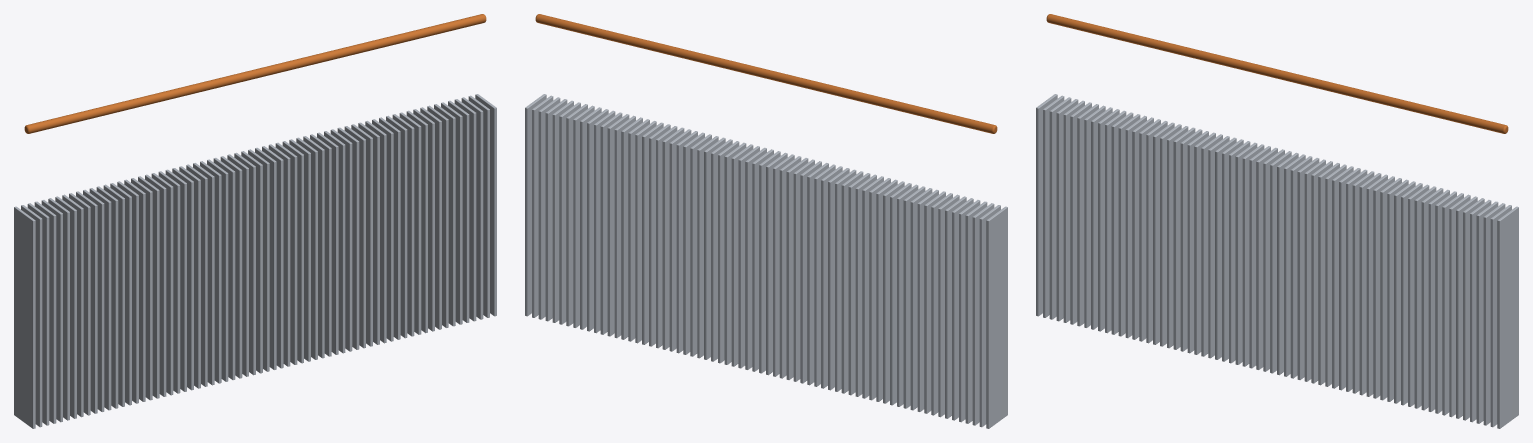
3 views of the same model, side by side, from view 1: azimuth 30°, elevation 25°; view 2: azimuth 150°, elevation 25°; view 3: azimuth 330°, elevation 25° (orthographic).
Visible parts, largest first — view 1: part_056; view 2: part_056; view 3: part_056.
Boxes of the visible parts, x1,y1,x2,y2 form: part_056: (14, 14, 496, 428); part_056: (525, 14, 1007, 428); part_056: (1036, 14, 1518, 428).
Bounding box in the file's own units: 2.38 × 1.45 × 0.17.
